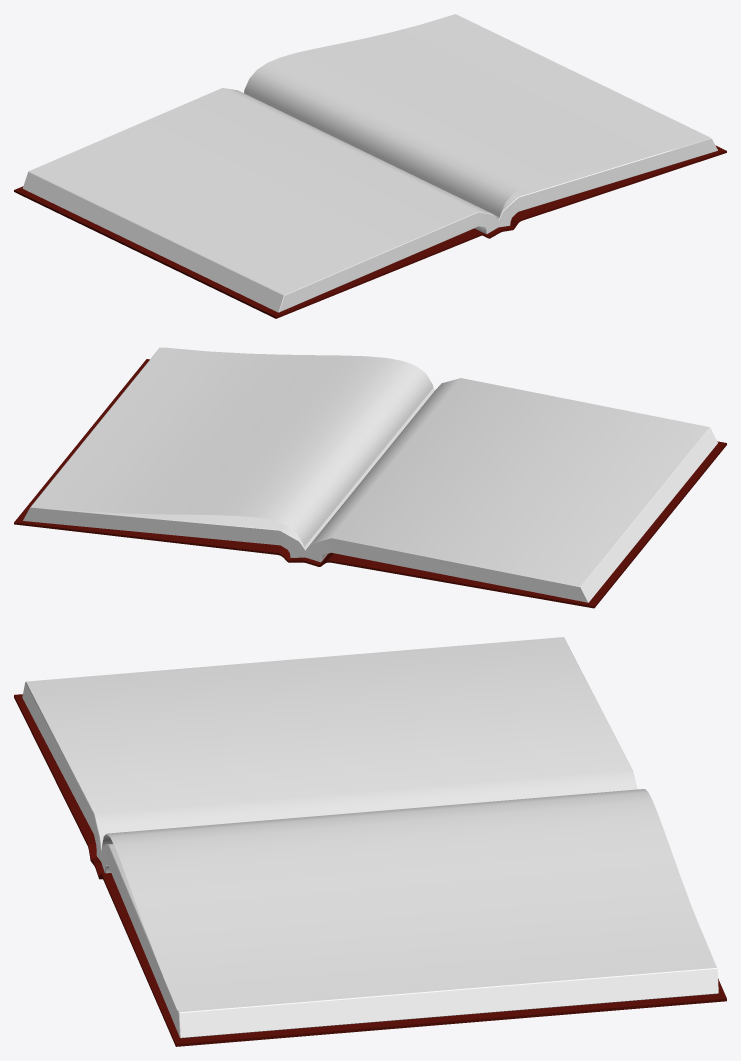
File: book.glb
3 renders of one model, top to bottom at view 1: azimuth 30°, elevation 25°; view 2: azimuth 150°, elevation 25°; view 3: azimuth 270°, elevation 25°, orthographic. The views are drawn at different scales.
Parts seen in each view (by area): view 1: BasePages, BezierCurve, Book; view 2: BasePages, BezierCurve, Book; view 3: BasePages, BezierCurve, Book.
Part boxes in pixels (x1,y1,x2,y2): BasePages: (22,14,717,312); BezierCurve: (244,15,708,217); Book: (14,145,726,318); BasePages: (23,347,717,602); BezierCurve: (34,347,433,546); Book: (14,359,726,608); BasePages: (22,637,718,1038); BezierCurve: (102,789,715,1010); Book: (14,694,726,1046).
Size of the model in its own units: 0.5656 by 0.0367 by 0.4315.
